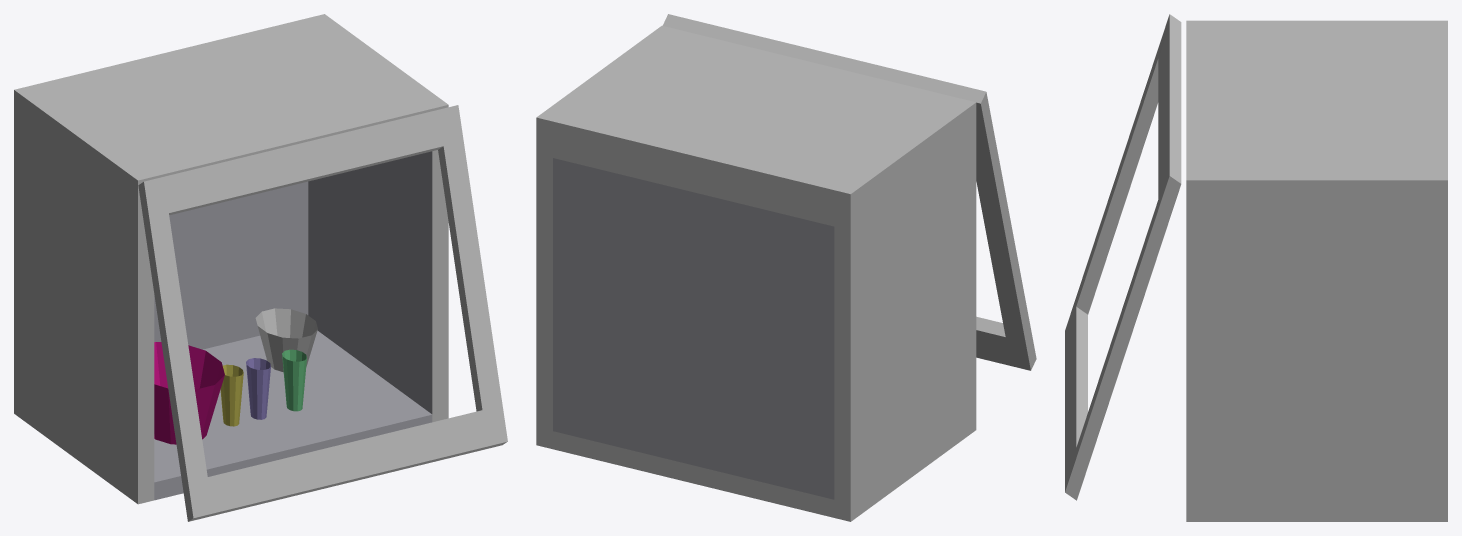
The model's file is sh-contrib-pensile-cucina-45x90.glb.
3 views of the same model, side by side, from view 1: azimuth 30°, elevation 25°; view 2: azimuth 150°, elevation 25°; view 3: azimuth 270°, elevation 25° (orthographic). The views are drawn at different scales.
Visible parts, largest first — view 1: Circle.007_Circle_Circle.007_Circle_Material, Cube_Cube_Material.00_Cube_Cube_Material.00_Material.001, Circle_Circle.004_Circle_Circle.004_Material.002, Circle.006_Circle_Circle.006_Circle_Material.004, Circle.002_Circle_Cir_Circle.002_Circle_Cir_Material.003, Circle.001_Circle.010_Circle.001_Circle.010_Material.005; view 2: Circle.007_Circle_Circle.007_Circle_Material, Cube_Cube_Material.00_Cube_Cube_Material.00_Material.001; view 3: Circle.007_Circle_Circle.007_Circle_Material.
Boxes of the visible parts, <box> form: Circle.007_Circle_Circle.007_Circle_Material: <box>14,14,507,521</box>; Cube_Cube_Material.00_Cube_Cube_Material.00_Material.001: <box>154,151,432,500</box>; Circle_Circle.004_Circle_Circle.004_Material.002: <box>154,342,224,444</box>; Circle.006_Circle_Circle.006_Circle_Material.004: <box>282,349,306,411</box>; Circle.002_Circle_Cir_Circle.002_Circle_Cir_Material.003: <box>246,358,270,419</box>; Circle.001_Circle.010_Circle.001_Circle.010_Material.005: <box>220,364,243,426</box>; Circle.007_Circle_Circle.007_Circle_Material: <box>536,14,1036,521</box>; Cube_Cube_Material.00_Cube_Cube_Material.00_Material.001: <box>553,158,834,499</box>; Circle.007_Circle_Circle.007_Circle_Material: <box>1065,14,1447,521</box>.
Bounding box in the file's own units: 1 × 1 × 1.
